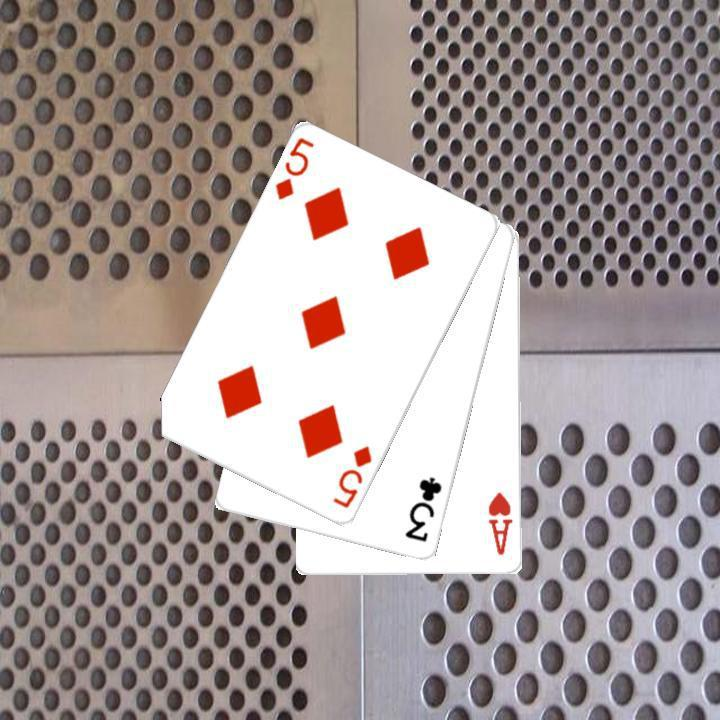3: (401, 473, 445, 545)
5: (270, 133, 316, 203), (328, 442, 374, 511)
A: (484, 488, 515, 557)
